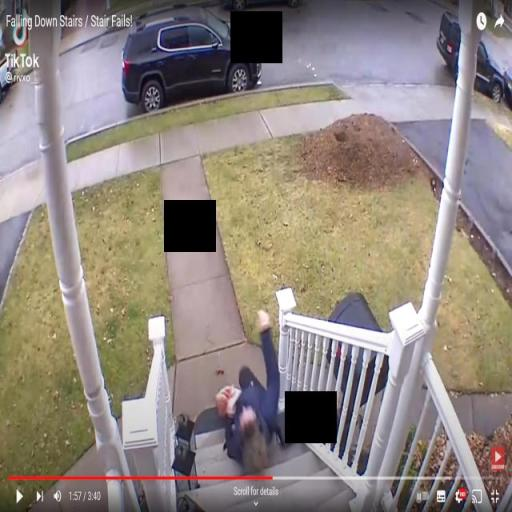Fall: (221, 307, 281, 476)
